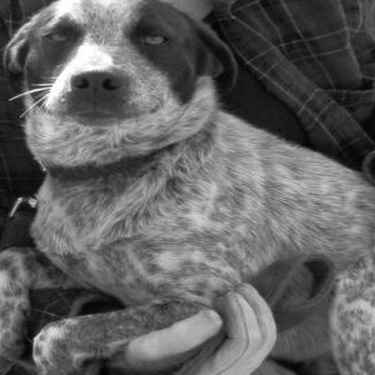dog: (2, 4, 371, 373)
